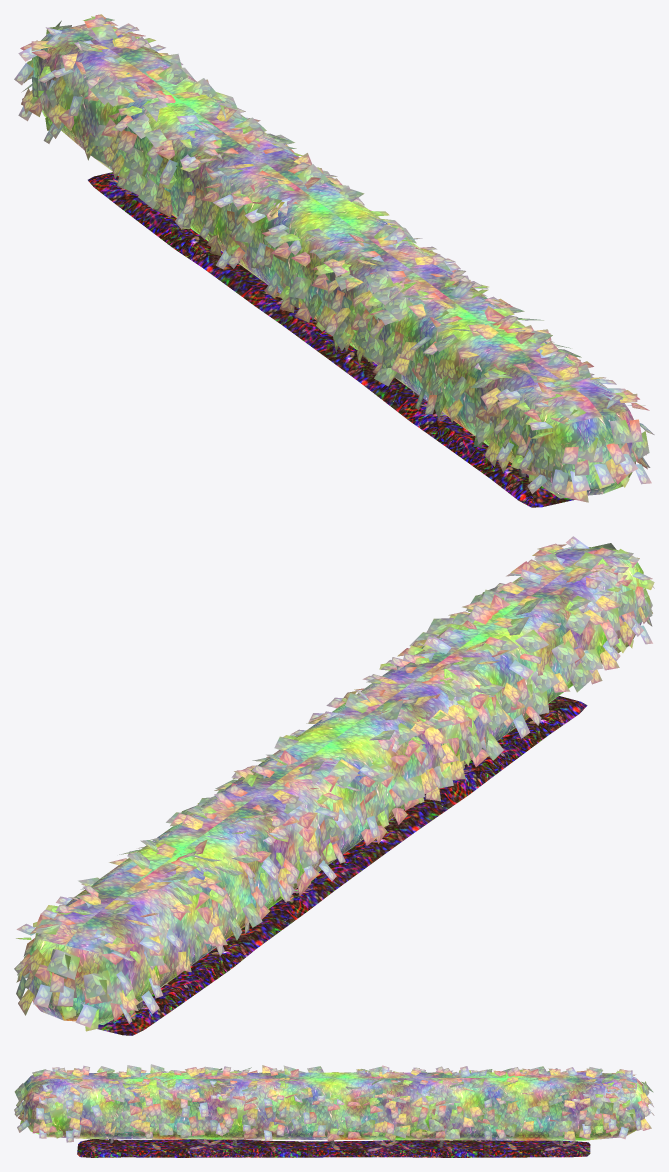
File: hedge_straight_SM.fbx
The picture shows the model from 3 angles, top to bottom: view 1: azimuth 30°, elevation 25°; view 2: azimuth 150°, elevation 25°; view 3: azimuth 270°, elevation 25°; orthographic projection. The views are drawn at different scales.
Visible parts, largest first — view 1: hedge_straight_SM_LOD0; view 2: hedge_straight_SM_LOD0; view 3: hedge_straight_SM_LOD0.
Part boxes in pixels (<box>): hedge_straight_SM_LOD0: <box>14,14,654,507</box>; hedge_straight_SM_LOD0: <box>14,536,654,1035</box>; hedge_straight_SM_LOD0: <box>14,1064,654,1157</box>.
Size of the model in its own units: 123 by 976 by 130.
3 materials, 3 textured.
